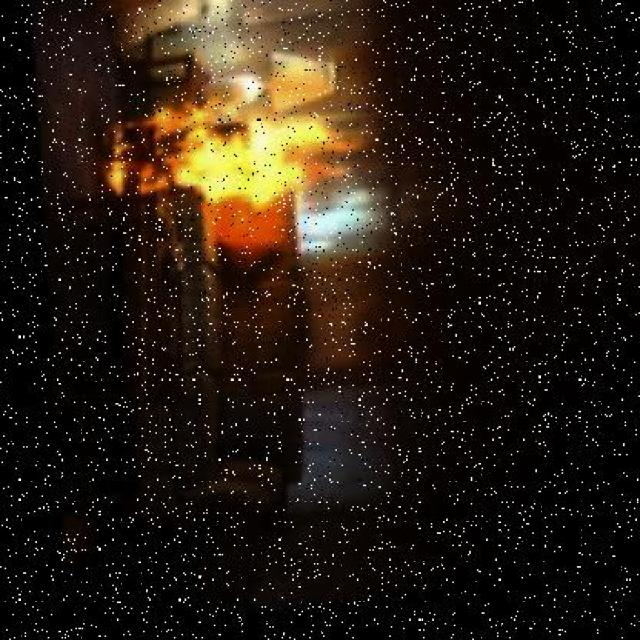fire: (98, 95, 349, 229)
